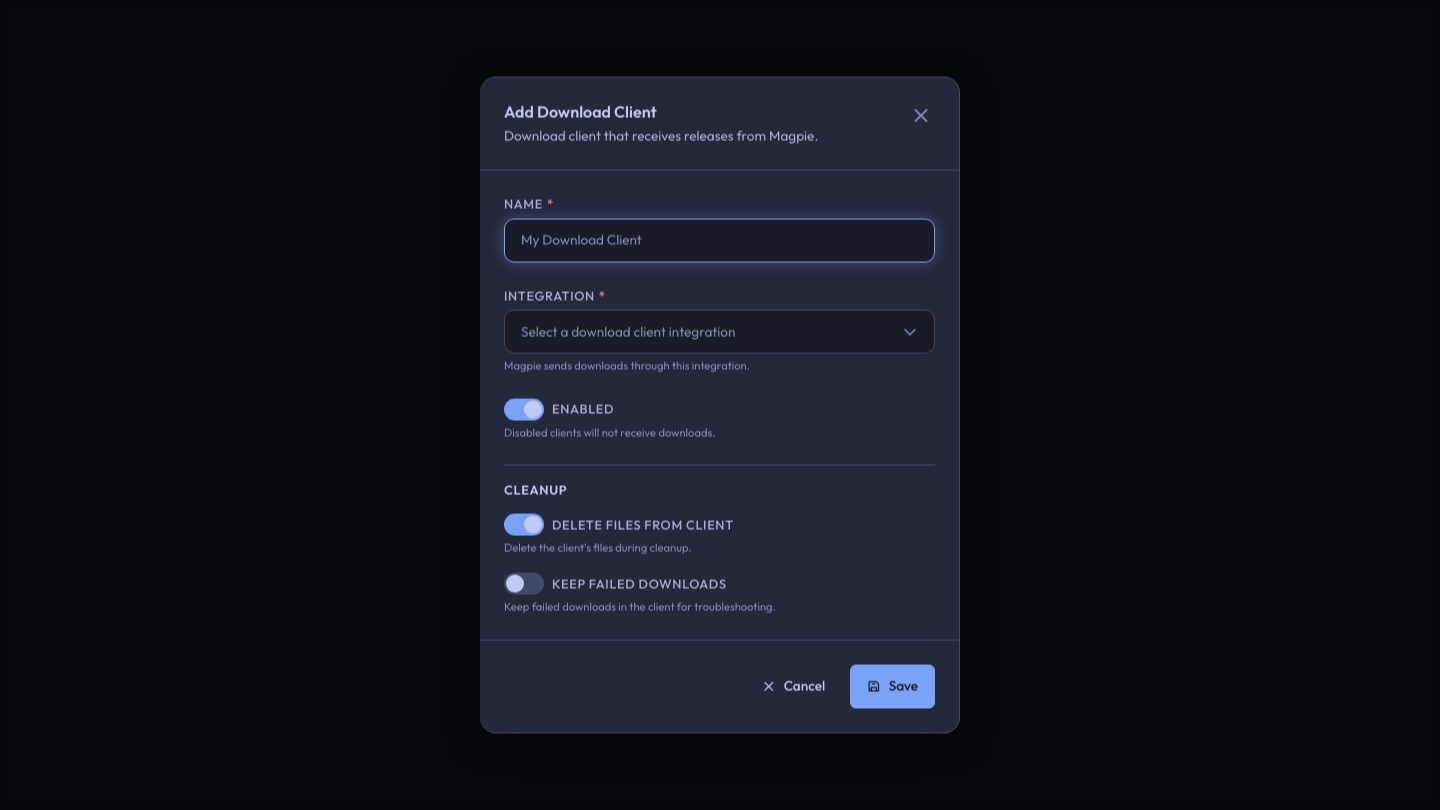
Scenario: DownloadClientForm › shows validation error when integration is empty on submit
The width and height of the screenshot is (1440, 810).
Type "Test Client" into the field labelled "Name *". click: (720, 240)
box: 505,222 -> 934,258
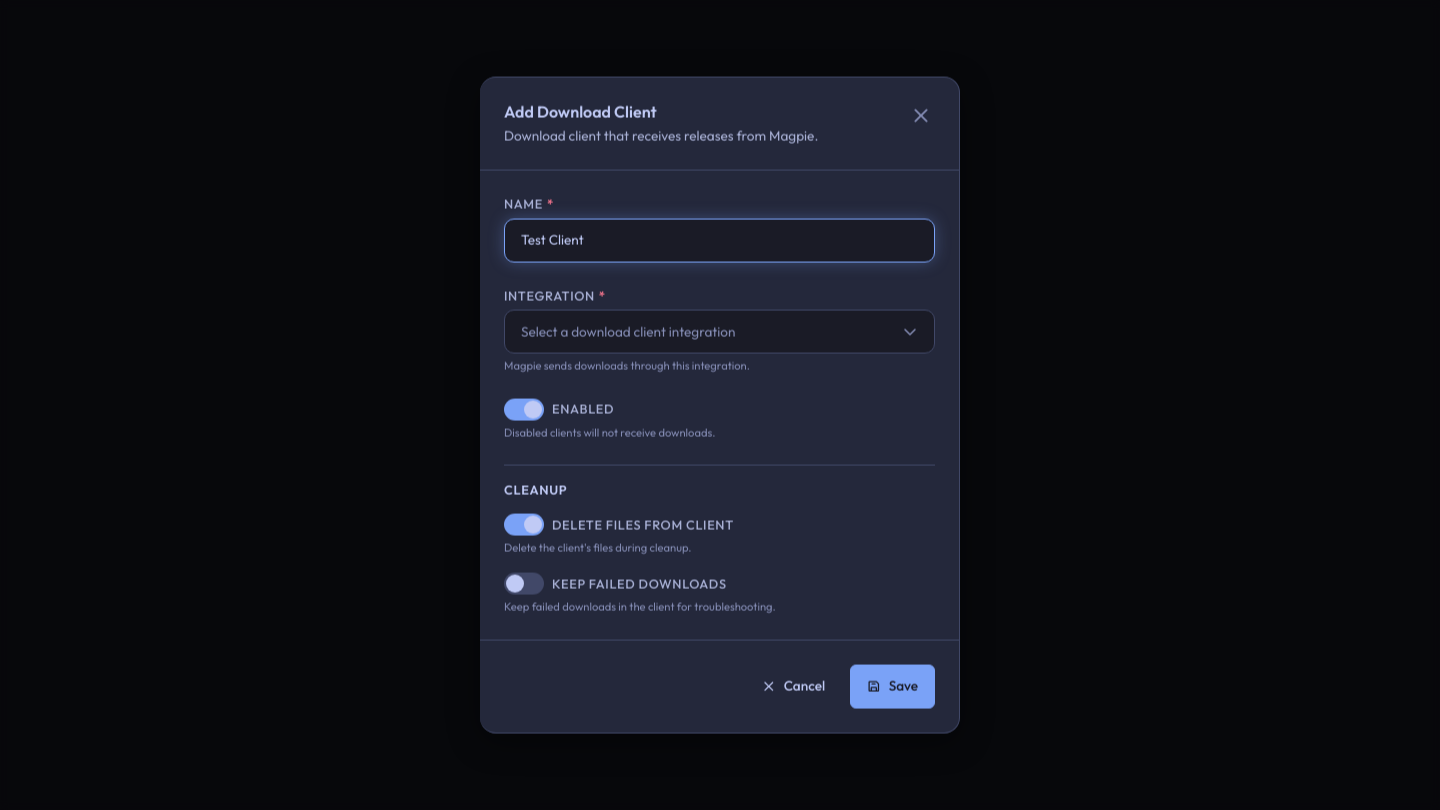
Click the button "Save". click: (893, 686)
box: 850,664 -> 935,708
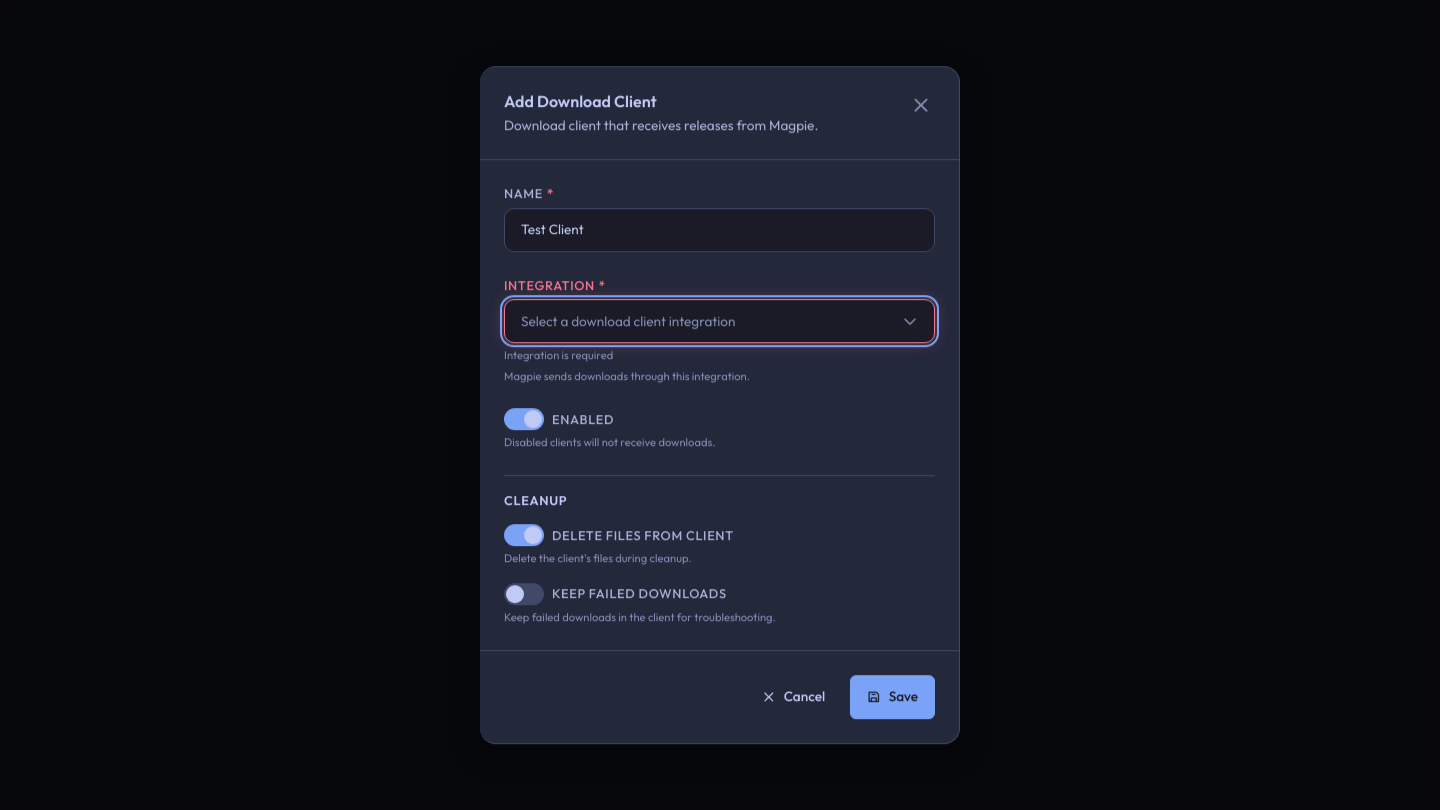
Expected: the text "Integration is required" is shown, 504,348 -> 613,362
